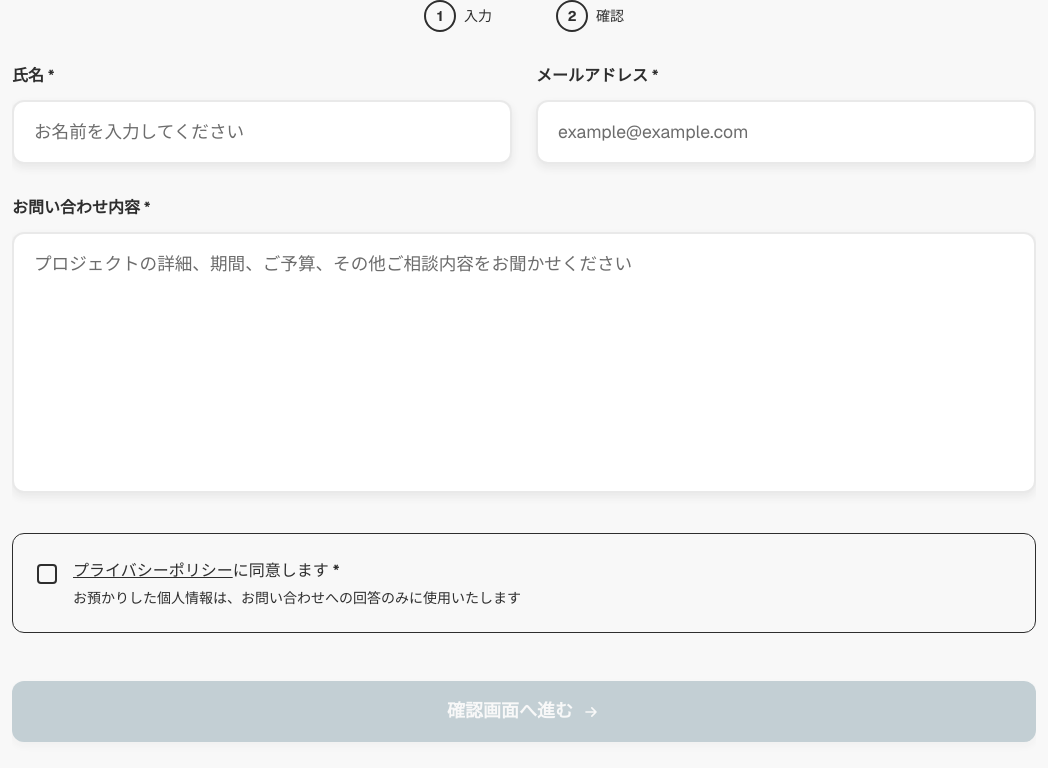
Test: ContactForm › プライバシーポリシー同意時は送信ボタンが有効化される
// 必要な情報を入力
Type "山田太郎" into the field labelled "氏名 *" at point(262, 132), box [12,100,512,164]
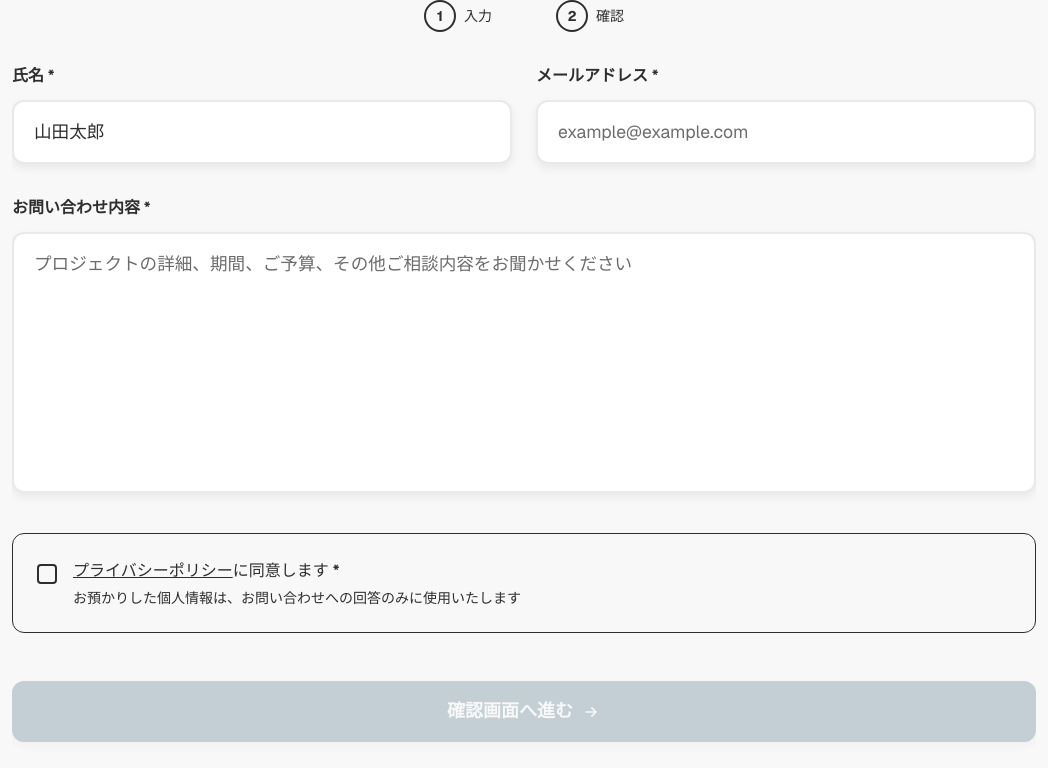
Type "yamada@example.com" into the field labelled "メールアドレス *" at point(786, 132), box [536,100,1036,164]
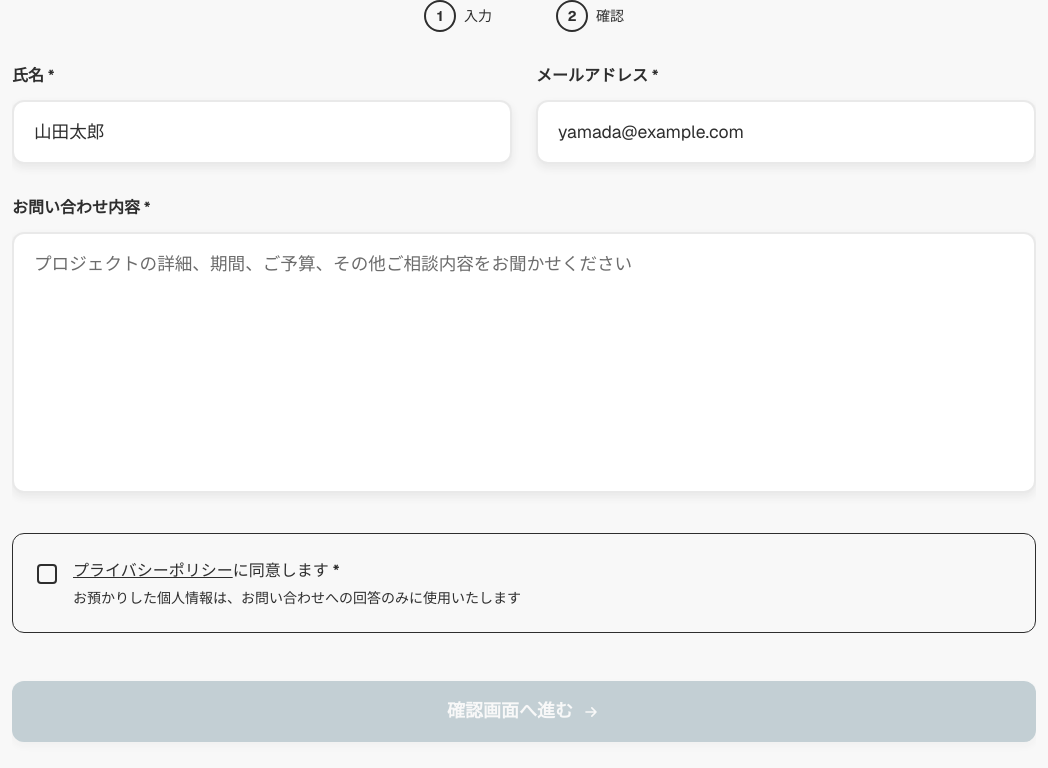
Type "お問い合わせ内容です" into the text box labelled "お問い合わせ内容 *" at point(524, 363), box [12,232,1036,493]
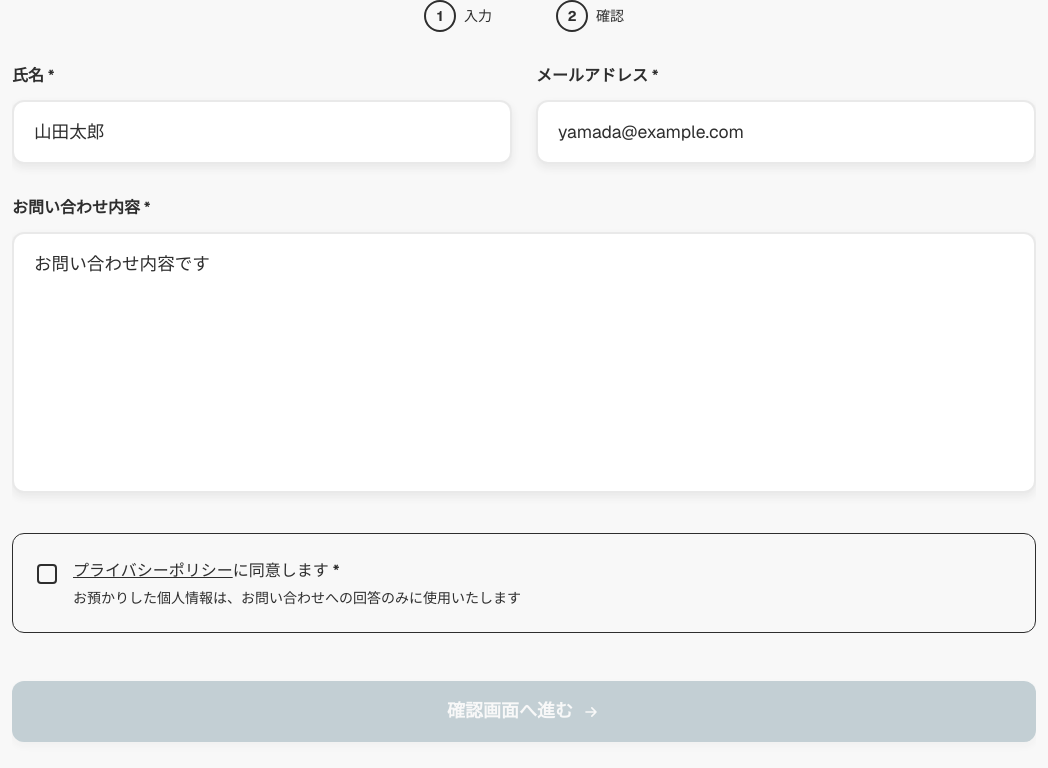
// プライバシーポリシーに同意
Click the checkbox at point(297, 583), box [73,558,521,608]
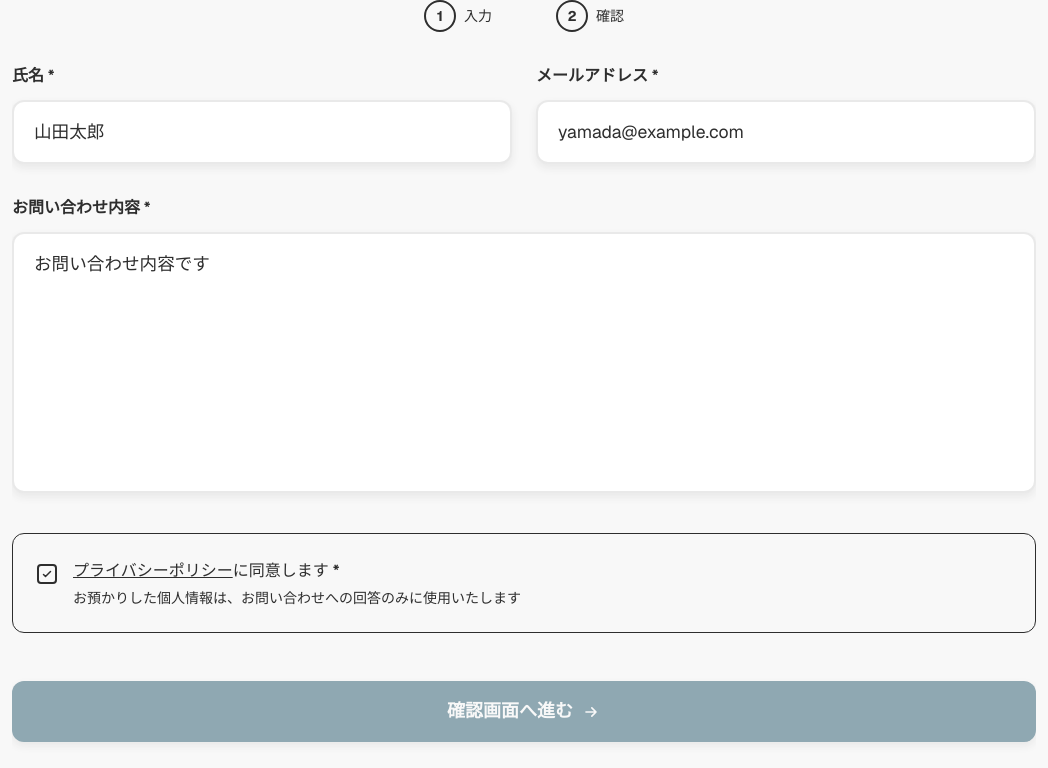
Check: the button "確認画面へ進む" is enabled, box [12,681,1036,742]
